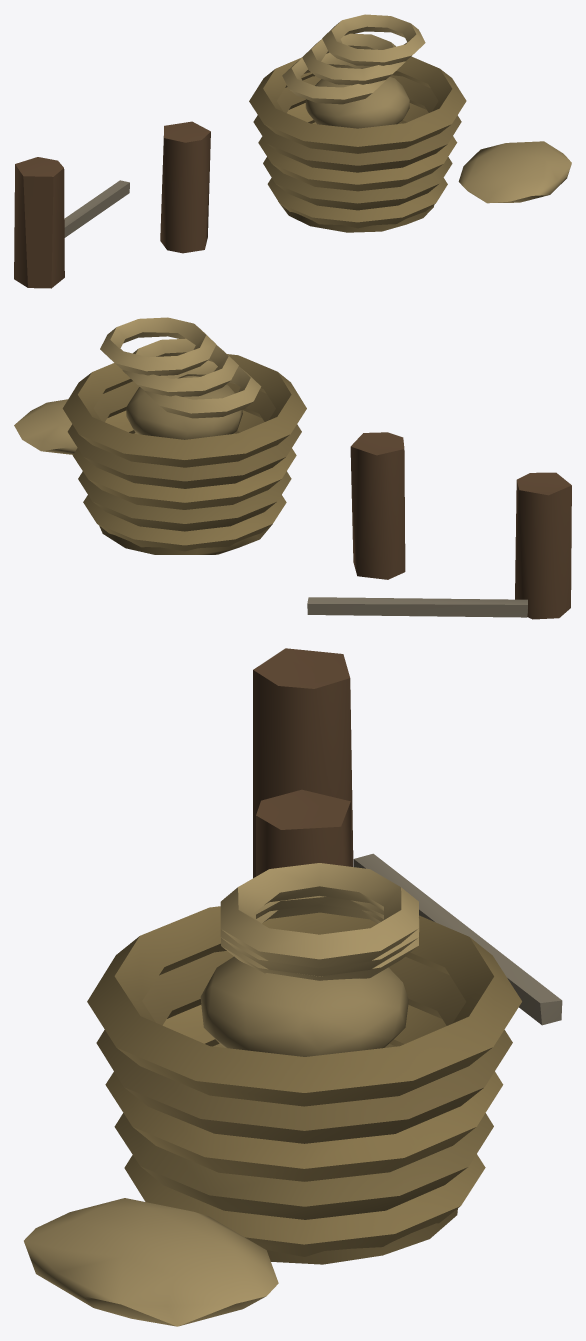
The model's file is knot_board_c_lod1.glb.
3 renders of one model, top to bottom at view 1: azimuth 30°, elevation 25°; view 2: azimuth 150°, elevation 25°; view 3: azimuth 270°, elevation 25°, orthographic. The views are drawn at different scales.
Visible parts, largest first — view 1: Surface.001; view 2: Surface.001; view 3: Surface.001.
Boxes of the visible parts, bbox=[...] form: Surface.001: bbox=[14, 14, 571, 288]; Surface.001: bbox=[14, 317, 571, 619]; Surface.001: bbox=[24, 648, 562, 1326].
Size of the model in its own units: 3.9 by 1.16 by 1.76.
